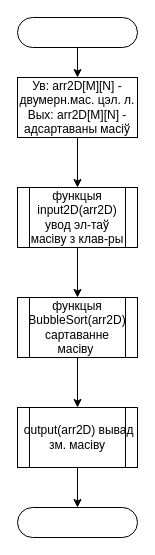
Some shapes in this 155 by 555 pixel diagram are drawn without their labels. Each missing label, with the box of its shape:
Канец: (16, 506, 138, 538)
Пачатак: (16, 16, 138, 48)
